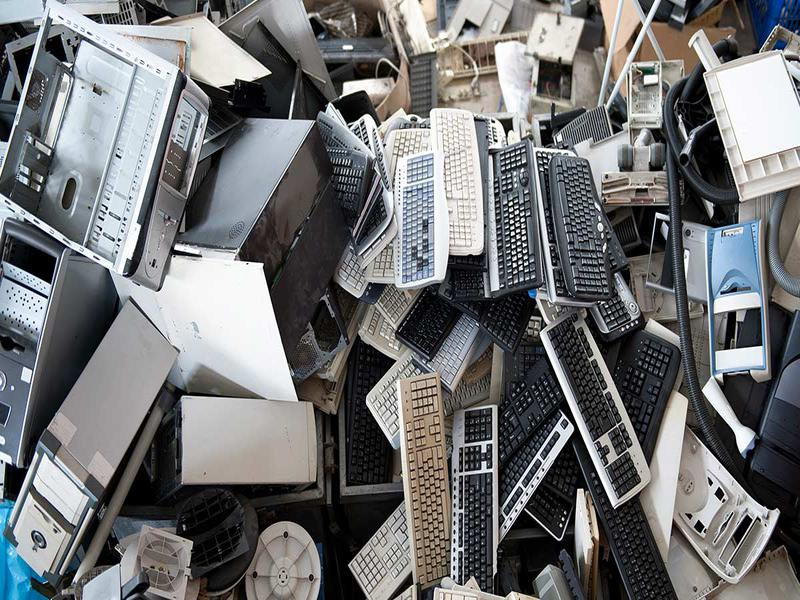keyboard: (536, 312, 654, 511), (390, 373, 454, 592), (447, 404, 506, 596), (547, 155, 617, 302), (484, 141, 547, 303), (427, 104, 491, 260), (341, 338, 401, 499), (389, 149, 449, 292)
